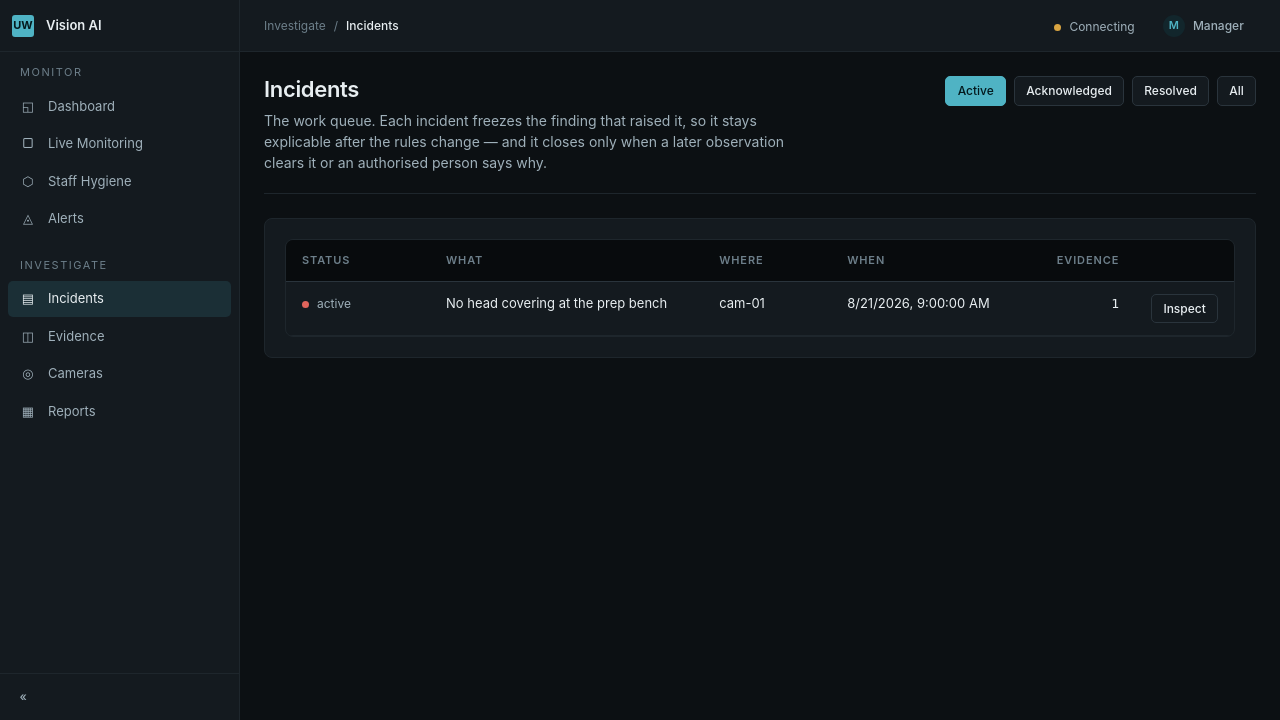
it: the incident queue › will not resolve an incident without a reason
Click the button "Inspect". click: {"x": 1185, "y": 309}
box: [1151,294,1218,324]
(page scrolled)
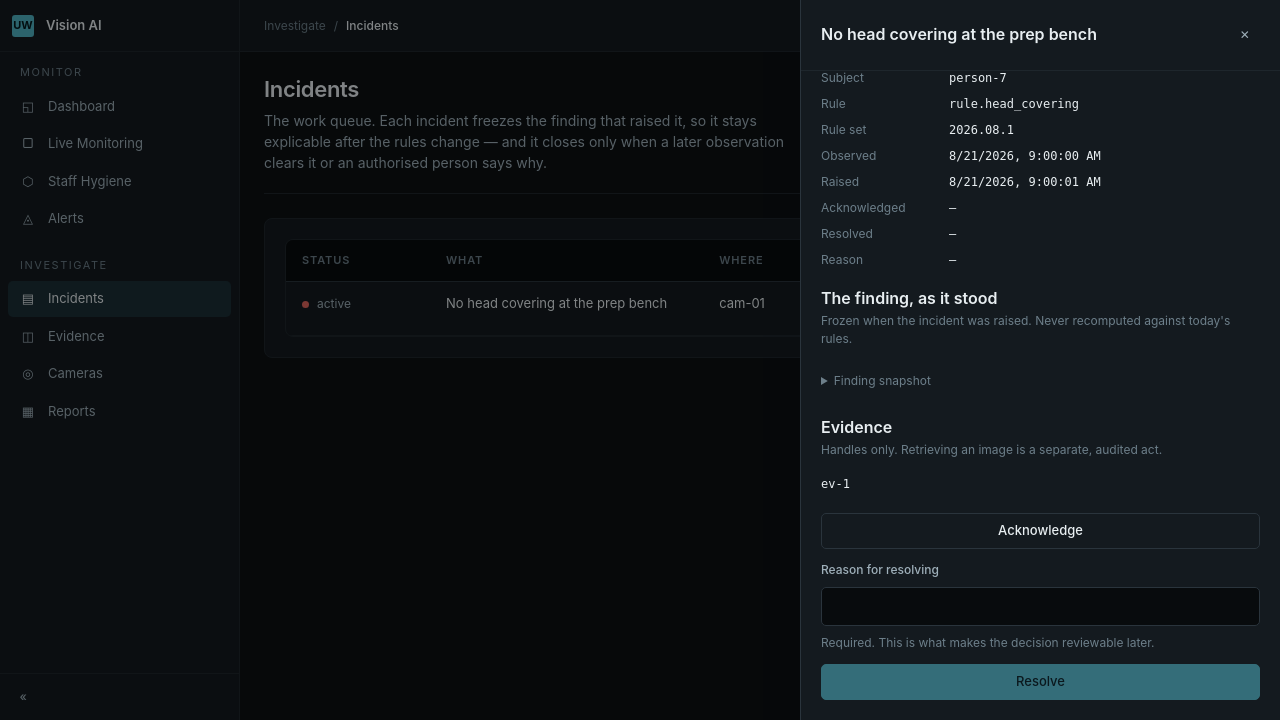
Expected: the button "Resolve" is disabled, [821,664,1260,700]
Type "Hairnet issued" into the field labelled "Reason for resolving". click: {"x": 1040, "y": 606}
box: [821,587,1260,626]
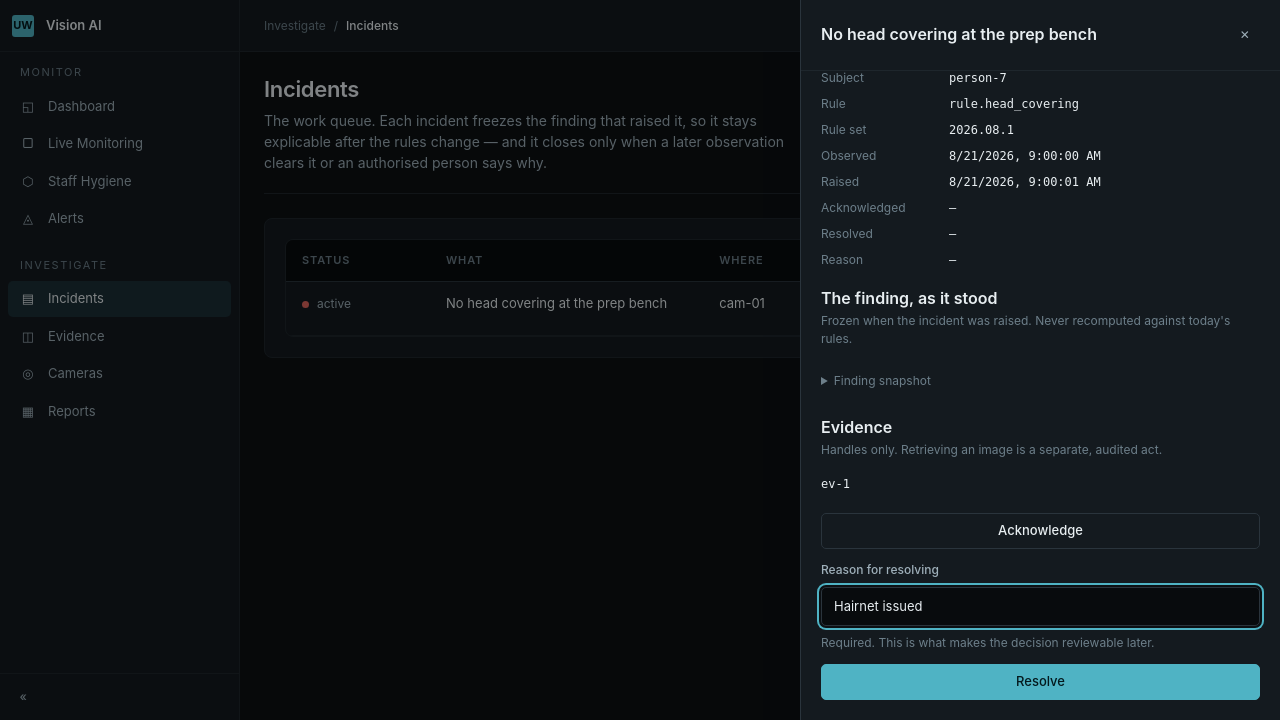
Expected: the button "Resolve" is enabled, [821,664,1260,700]
